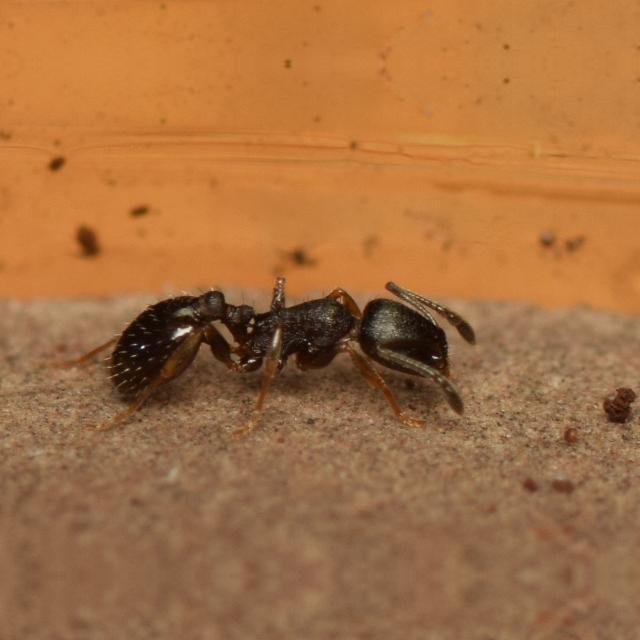Tetramorium: (108, 265, 488, 431)
